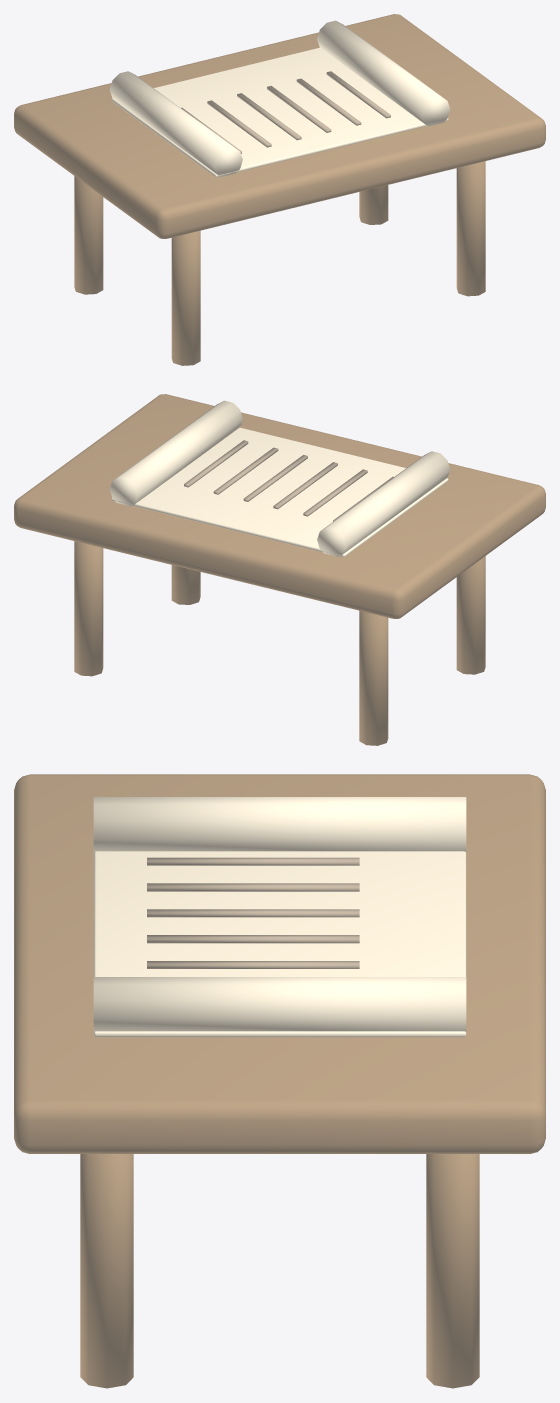
File: castle_detail_reading_table_purified.glb
3 renders of one model, top to bottom at view 1: azimuth 30°, elevation 25°; view 2: azimuth 150°, elevation 25°; view 3: azimuth 270°, elevation 25°, orthographic. The views are drawn at different scales.
Visible parts, largest first — view 1: castle_detail_reading_table_purified_surface; view 2: castle_detail_reading_table_purified_surface; view 3: castle_detail_reading_table_purified_surface.
Boxes of the visible parts, <box> form: castle_detail_reading_table_purified_surface: <box>14,14,545,365</box>; castle_detail_reading_table_purified_surface: <box>14,394,545,745</box>; castle_detail_reading_table_purified_surface: <box>14,774,545,1388</box>.
Size of the model in its own units: 3 by 1.5 by 2.
